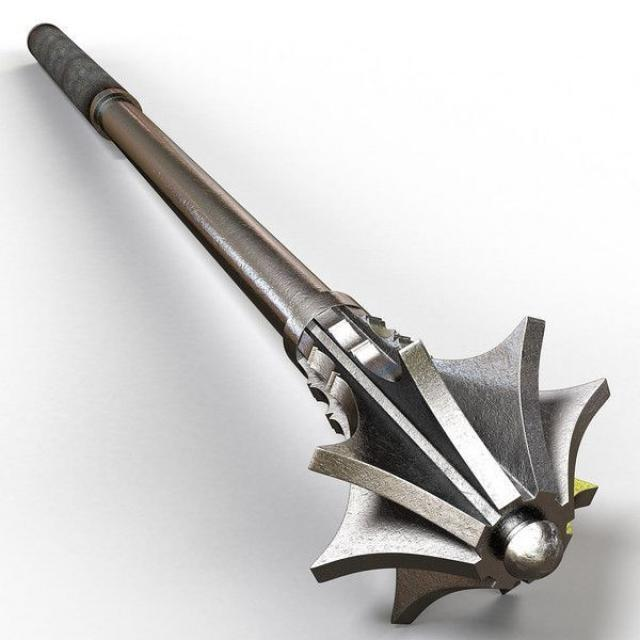mace: (24, 18, 614, 629)
